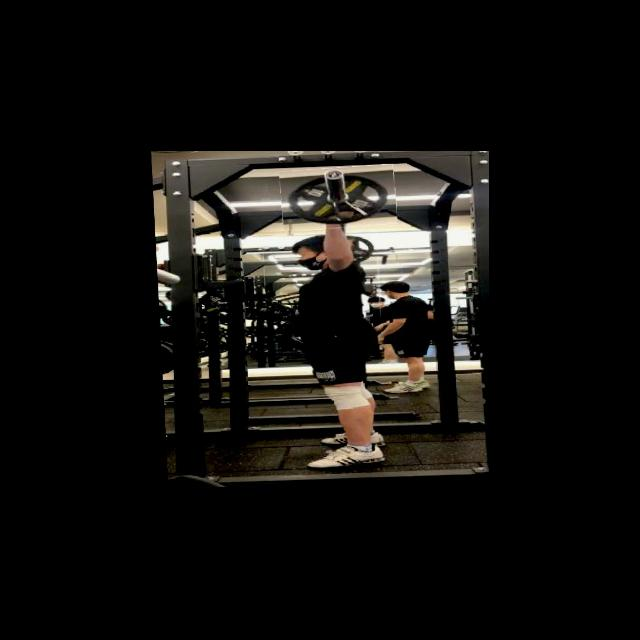barbell: (279, 167, 397, 232)
